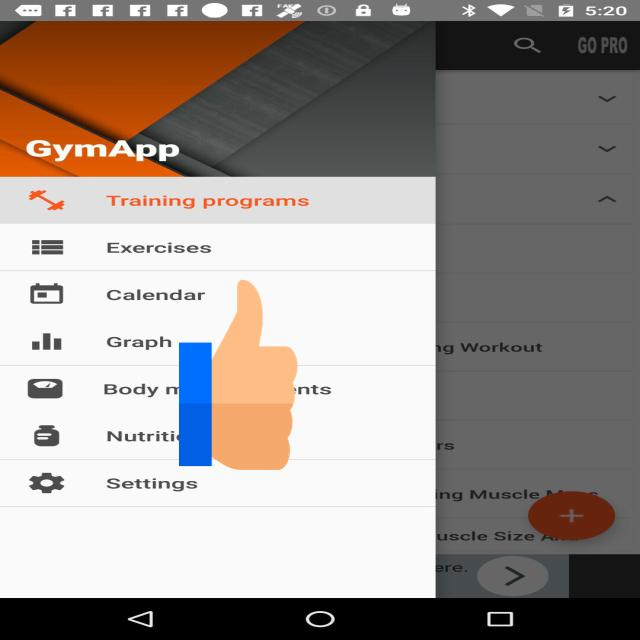privacy zuckering: (179, 275, 297, 475)
